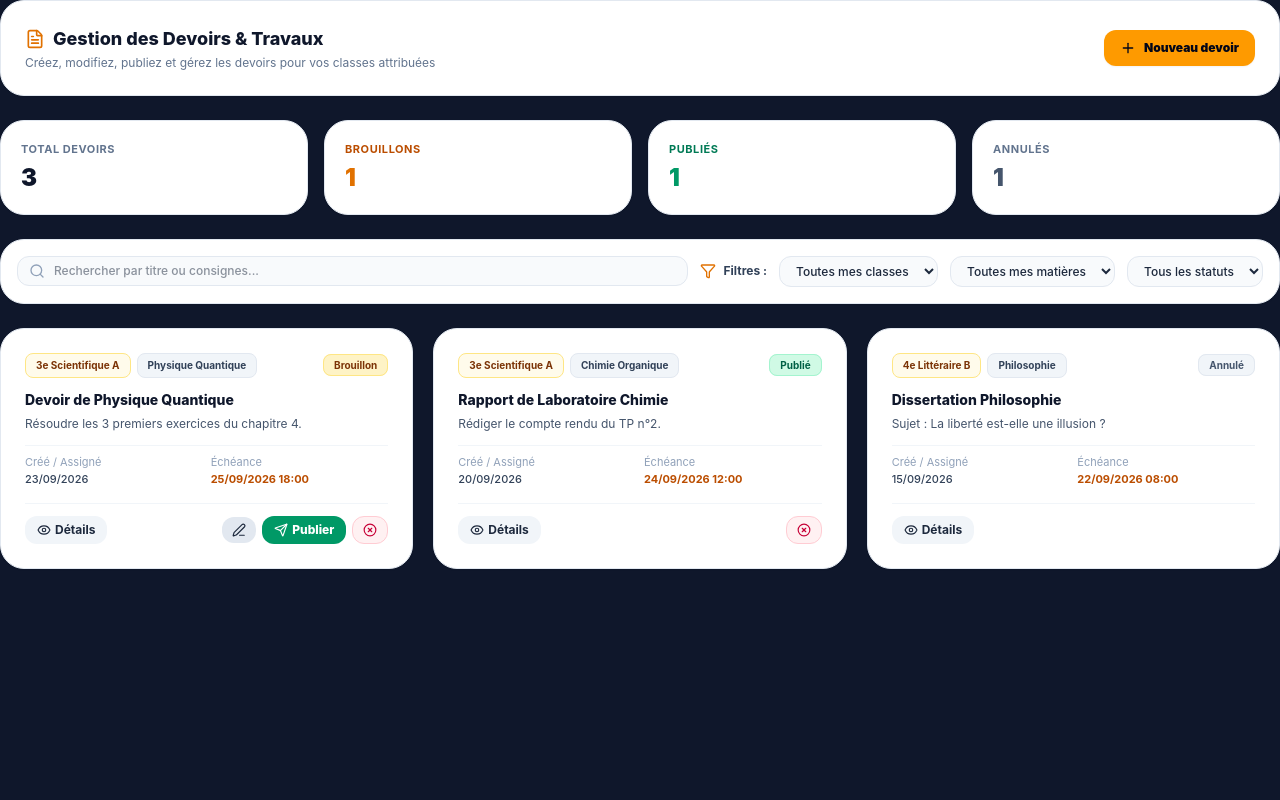
Test: TeacherHomeworkModule — Suite de Tests Frontend Complète (24 scénarios) › 8. Ouvre la modale de création au clic sur "Nouveau devoir"
Check: the heading "Devoir de Physique Quantique" is shown, box [25,390,234,408]
Click the button "Nouveau devoir" at {"x": 1179, "y": 48}, box [1104,30,1255,66]
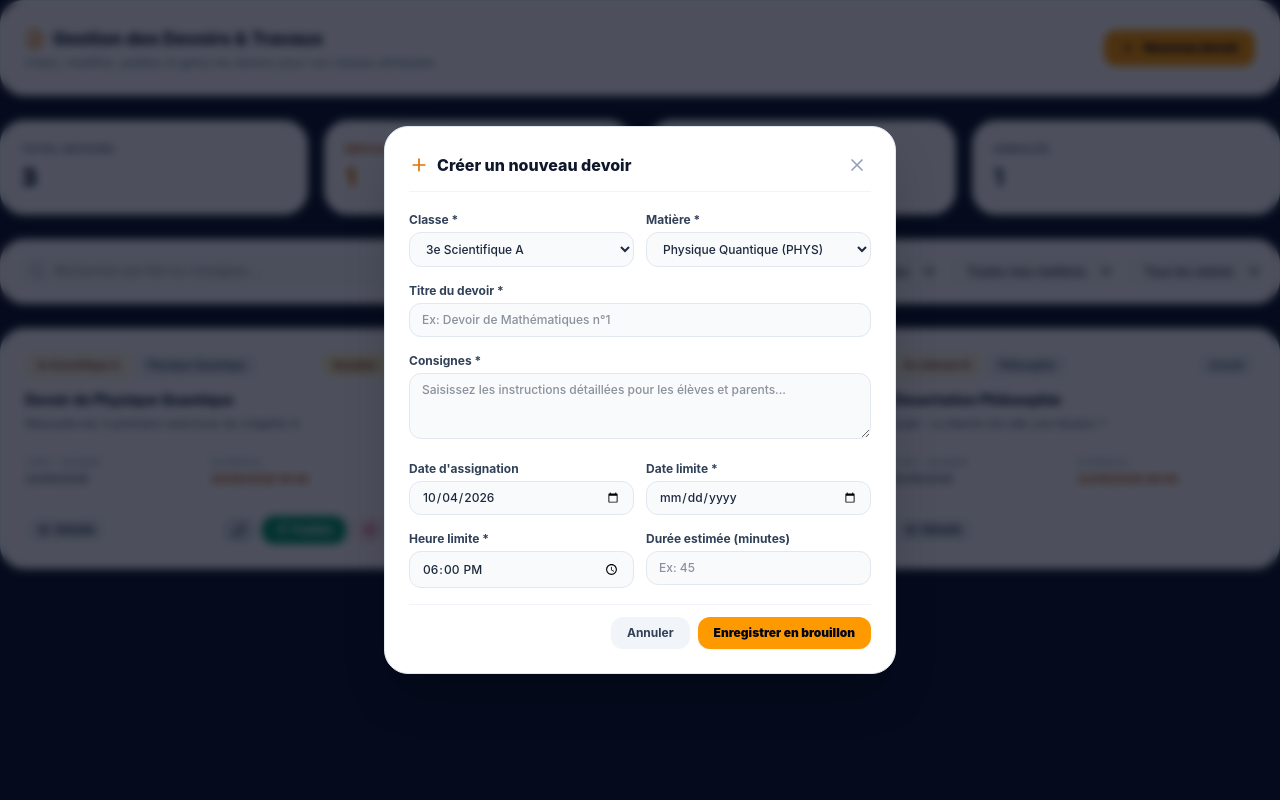
Check: the text "Créer un nouveau devoir" is shown, box [437,153,631,177]
